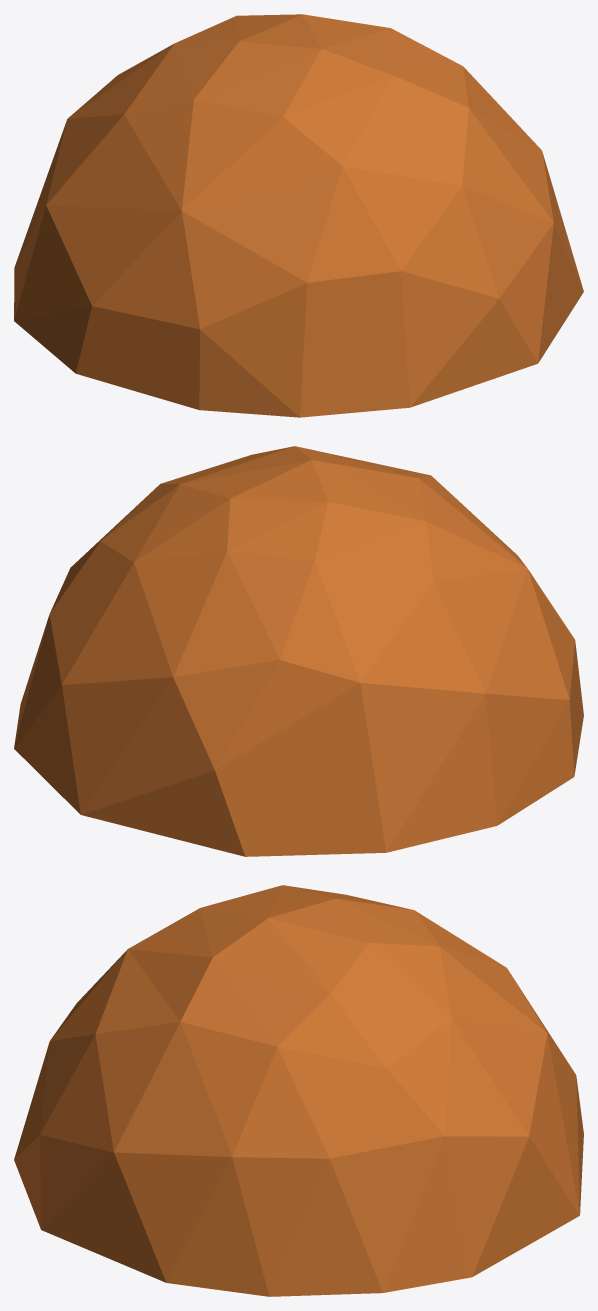
Rendered from UpperLoaf.obj.
The picture shows the model from 3 angles, top to bottom: view 1: azimuth 30°, elevation 25°; view 2: azimuth 150°, elevation 25°; view 3: azimuth 270°, elevation 25°; orthographic projection.
Parts seen in each view (by area): view 1: Сфера; view 2: Сфера; view 3: Сфера.
Boxes of the visible parts, box(x1,y1,x2,y2) form: Сфера: box(14, 14, 583, 417); Сфера: box(14, 446, 583, 856); Сфера: box(14, 885, 583, 1296).
Size of the model in its own units: 0.602 by 0.3082 by 0.5959.
